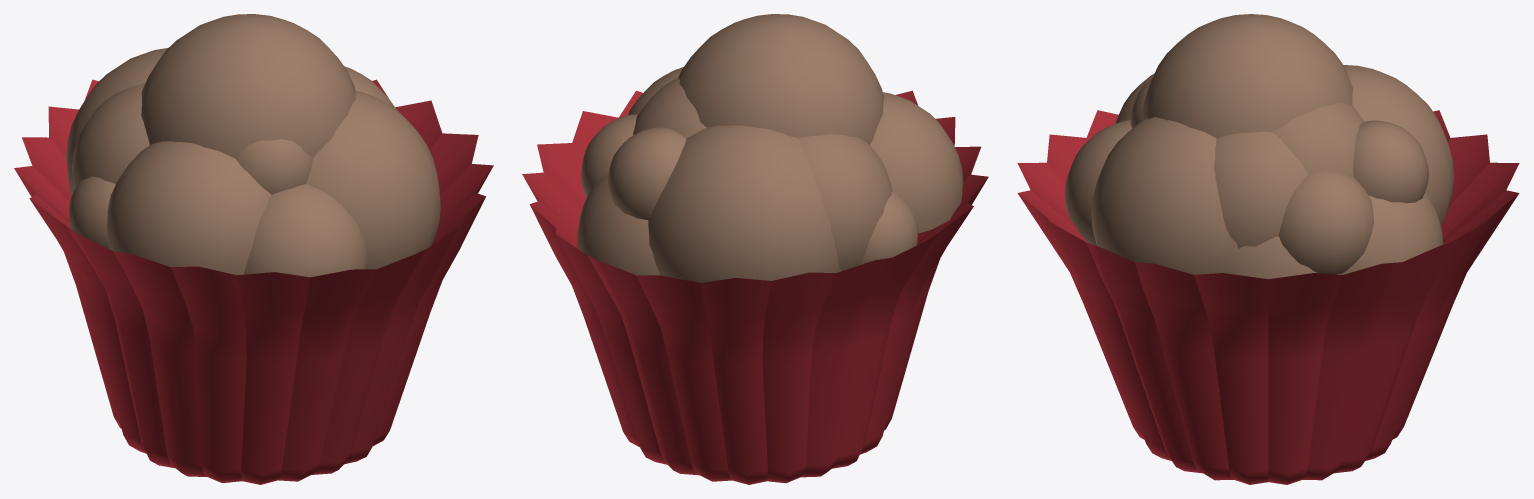
Rendered from Muffin_Model.fbx.
3 renders of one model, left to right at view 1: azimuth 30°, elevation 25°; view 2: azimuth 150°, elevation 25°; view 3: azimuth 270°, elevation 25°, orthographic. The views are drawn at different scales.
Parts seen in each view (by area): view 1: Muffin; view 2: Muffin; view 3: Muffin.
Part boxes in pixels (<box>): Muffin: <box>14,14,493,484</box>; Muffin: <box>522,14,988,484</box>; Muffin: <box>1017,14,1519,484</box>.
Bounding box in the file's own units: 0.0824 × 0.0825 × 0.0921.
